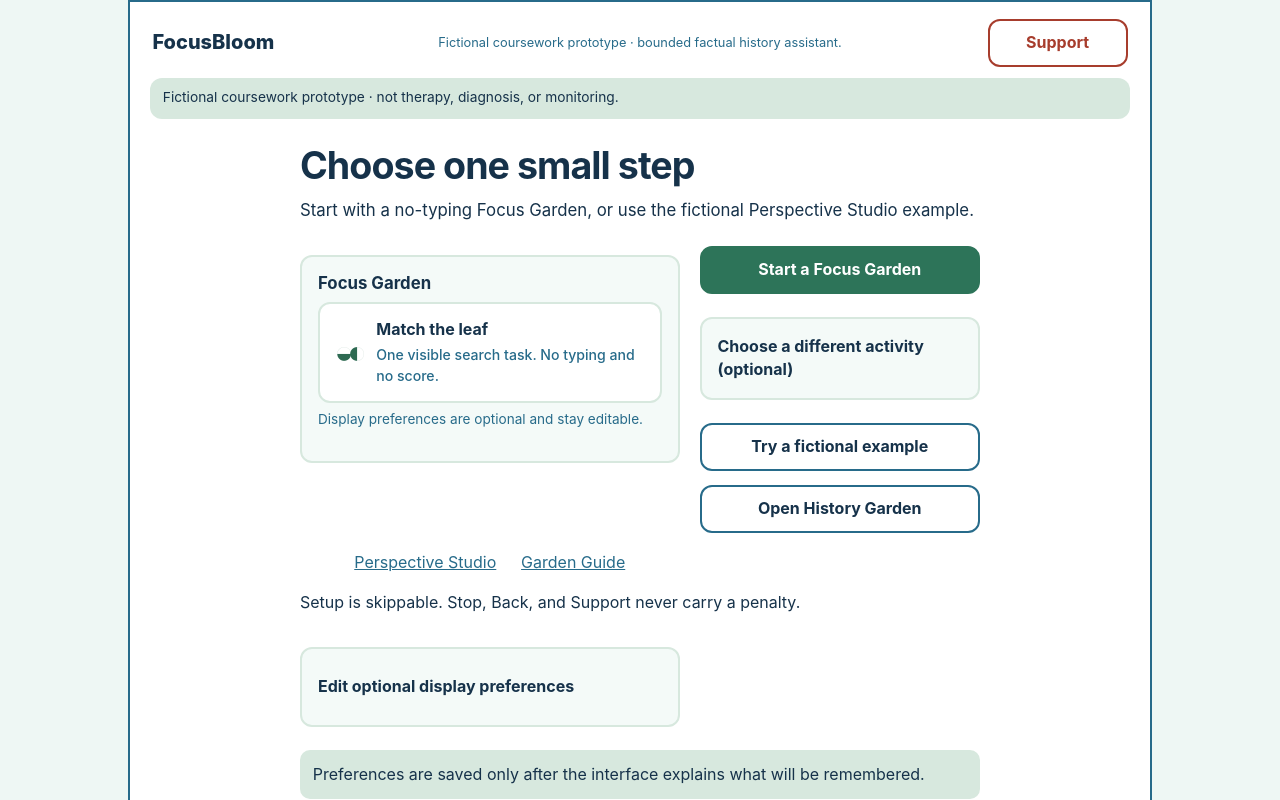
FocusBloom Vue experience › starts one no-typing activity in one action, allows neutral retry, and completes once
Click the button "Start a Focus Garden". click: (840, 270)
box: [700,246,980,294]
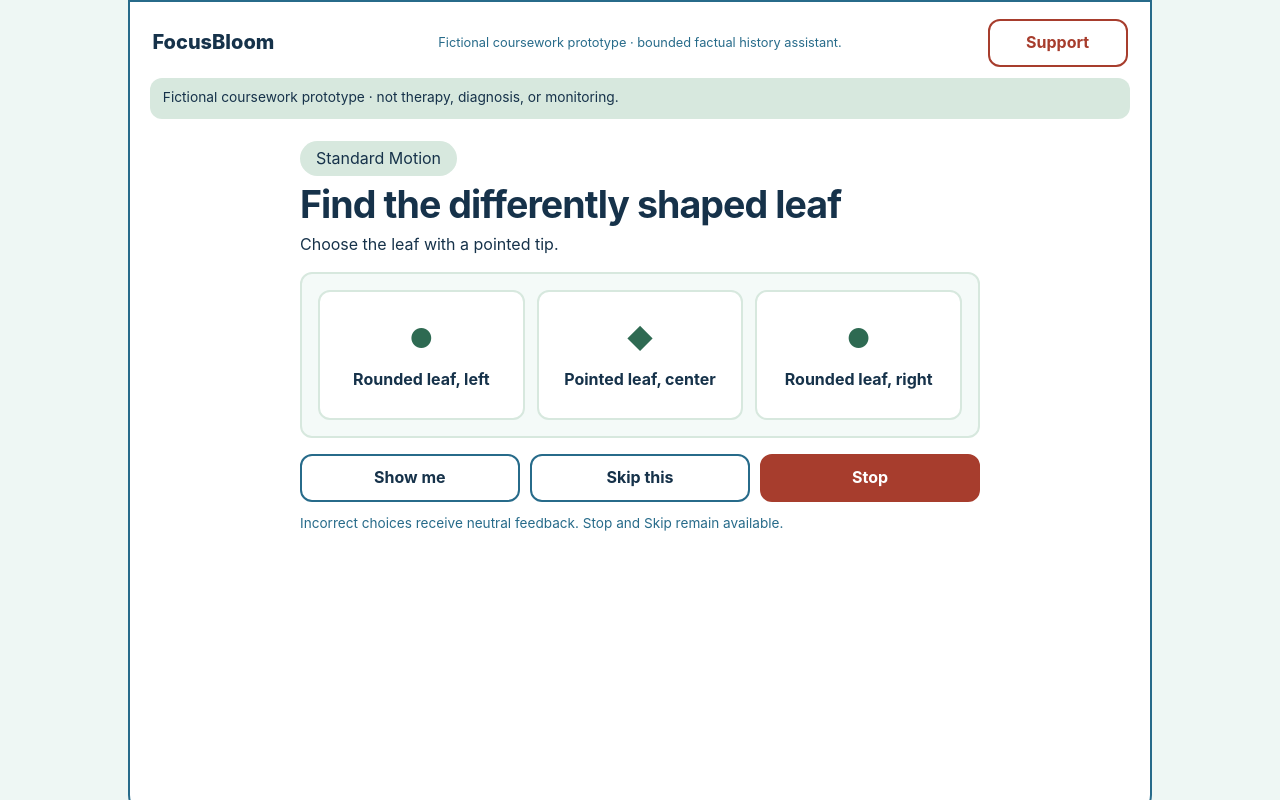
Now the heading "Find the differently shaped leaf" is shown, box [300,182,841,226]
Click the button with class "activity-option" showing "● Rounded leaf, left". click: (421, 355)
box: [318,290,525,420]
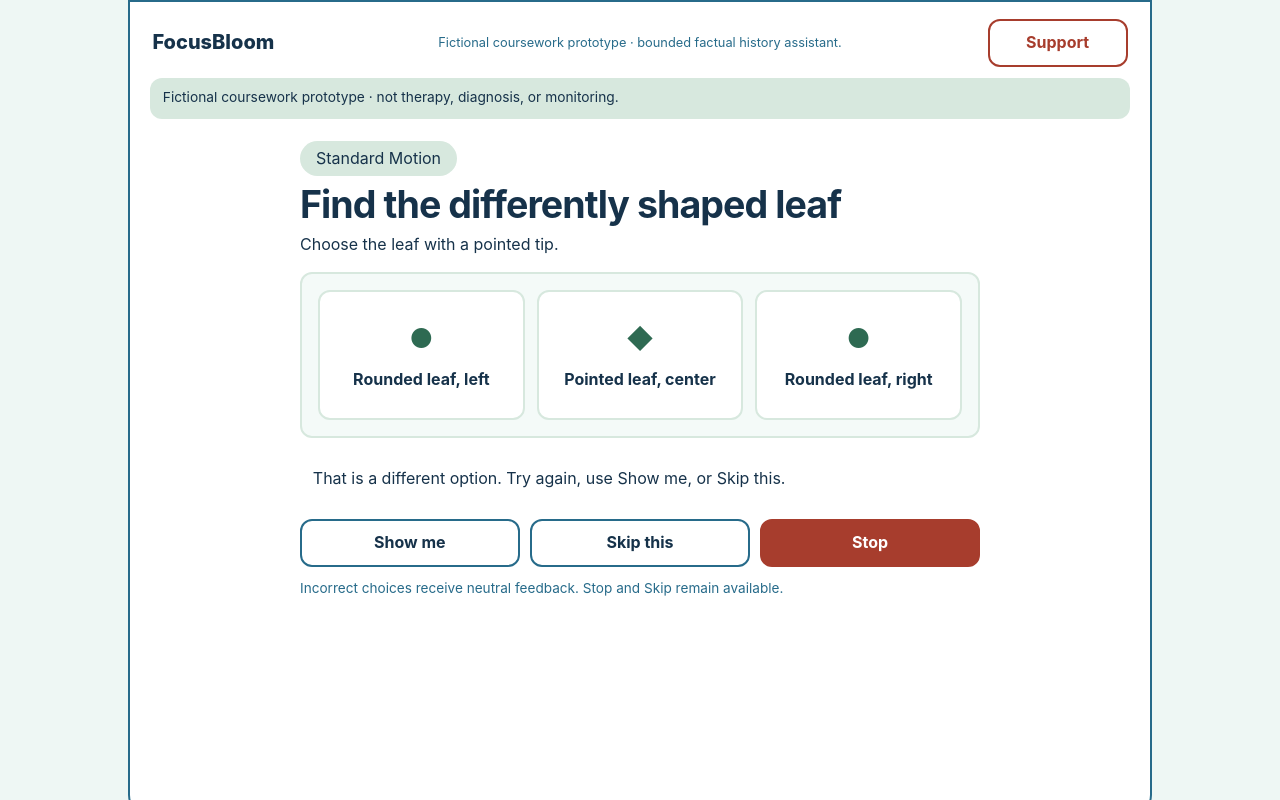
Now the text "Try again" is shown, box [313,468,786,488]
Click the button with class "activity-option" showing "◆ Pointed leaf, center". click: (640, 355)
box: [537,290,743,420]
(page scrolled)
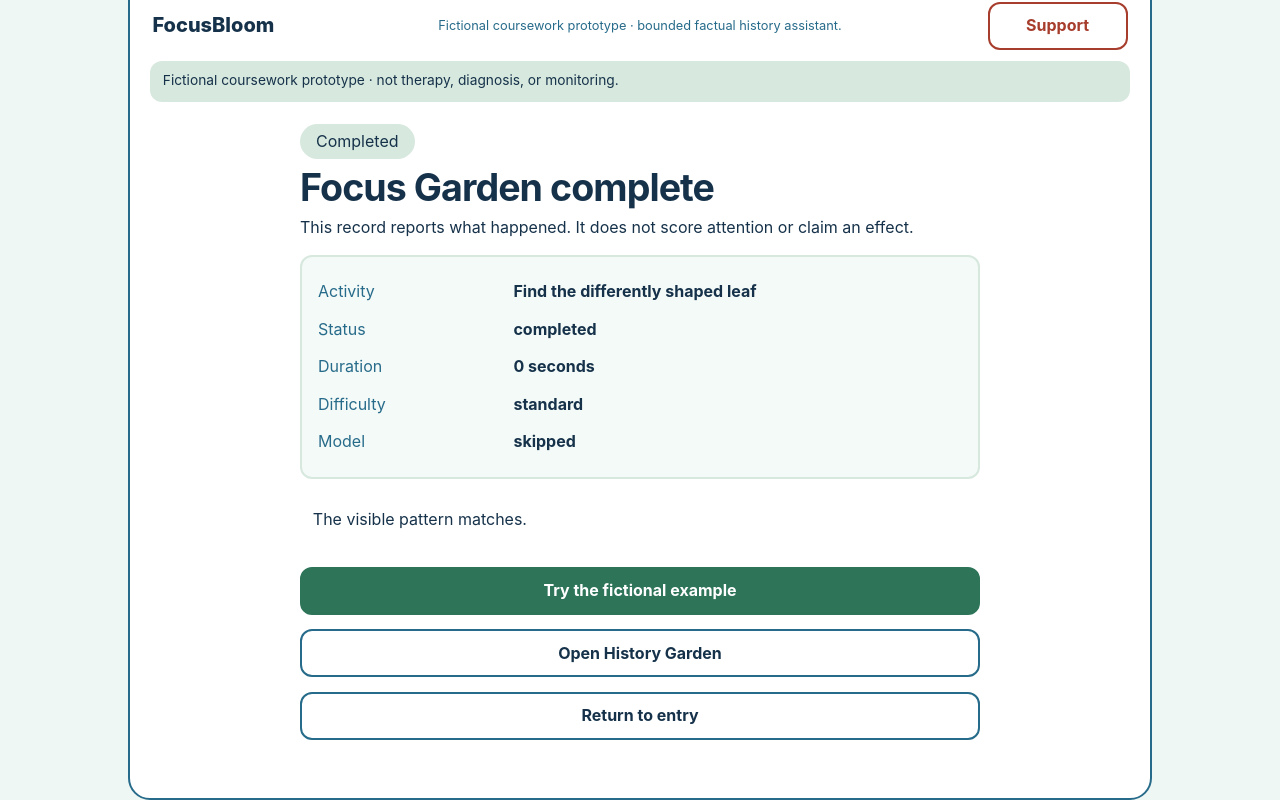
Now the element that starts with "Completed" is shown, box [316,131,398,151]
